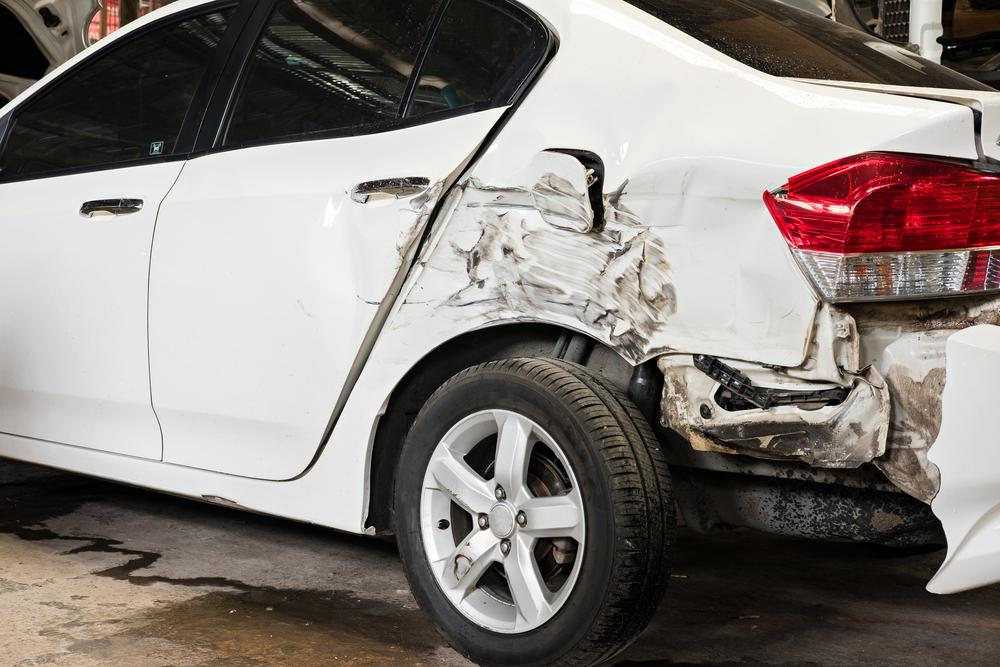dent: (457, 161, 774, 361), (341, 171, 440, 308)
